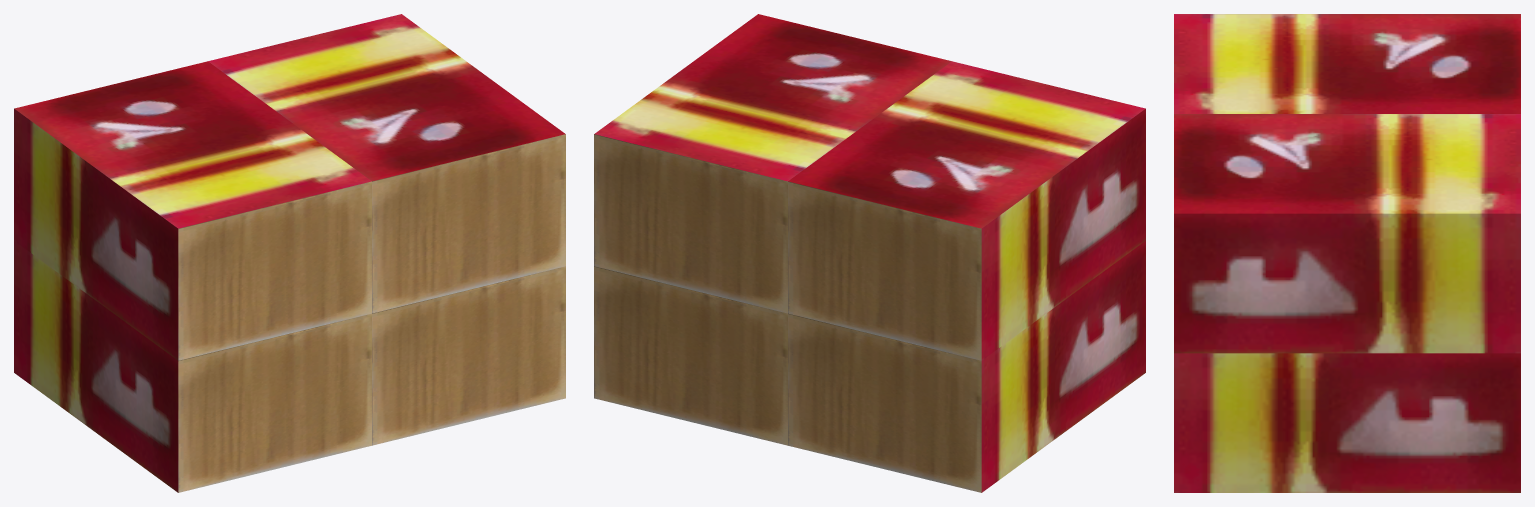
The model's file is gunshopammoboxredblock.obj.
3 renders of one model, left to right at view 1: azimuth 30°, elevation 25°; view 2: azimuth 150°, elevation 25°; view 3: azimuth 270°, elevation 25°, orthographic. The views are drawn at different scales.
Parts seen in each view (by area): view 1: gunshopammoboxredblock; view 2: gunshopammoboxredblock; view 3: gunshopammoboxredblock.
Boxes of the visible parts, x1,y1,x2,y2 form: gunshopammoboxredblock: [14, 14, 565, 492]; gunshopammoboxredblock: [594, 14, 1145, 492]; gunshopammoboxredblock: [1174, 14, 1520, 492].
Size of the model in its own units: 0.503 by 0.3277 by 0.3689.
1 material, 1 textured.
